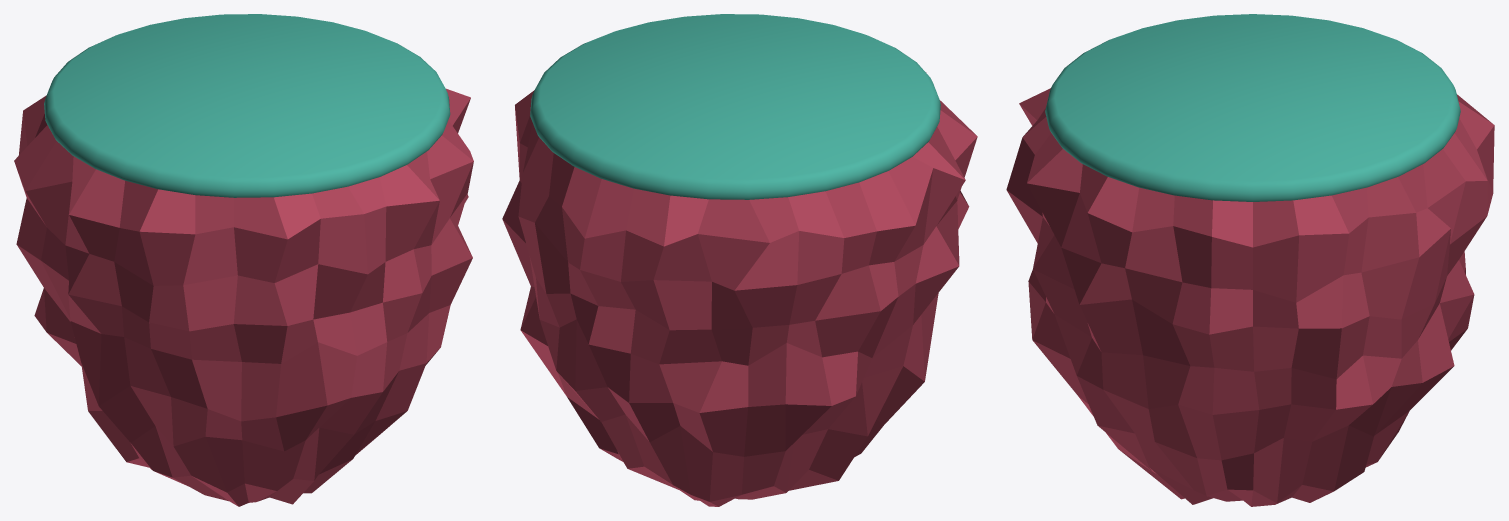
Rendered from island9.fbx.
3 renders of one model, left to right at view 1: azimuth 30°, elevation 25°; view 2: azimuth 150°, elevation 25°; view 3: azimuth 270°, elevation 25°, orthographic. The views are drawn at different scales.
Visible parts, largest first — view 1: island(9); view 2: island(9); view 3: island(9).
Boxes of the visible parts, left/top/right/bottom form: island(9): left=14, top=14, right=473, bottom=506; island(9): left=502, top=14, right=977, bottom=506; island(9): left=1006, top=14, right=1494, bottom=506.
Size of the model in its own units: 35.51 by 31.92 by 36.15.
Materials: 1 (1 with a texture image).
